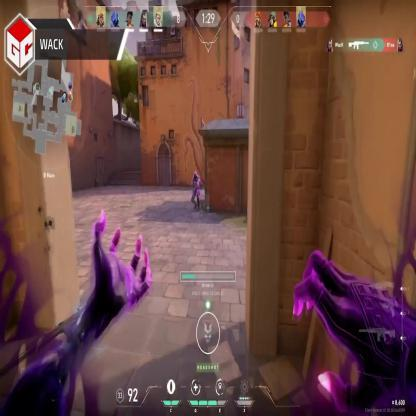enemy: (191, 170, 202, 210)
enemy_head: (193, 170, 198, 180)
